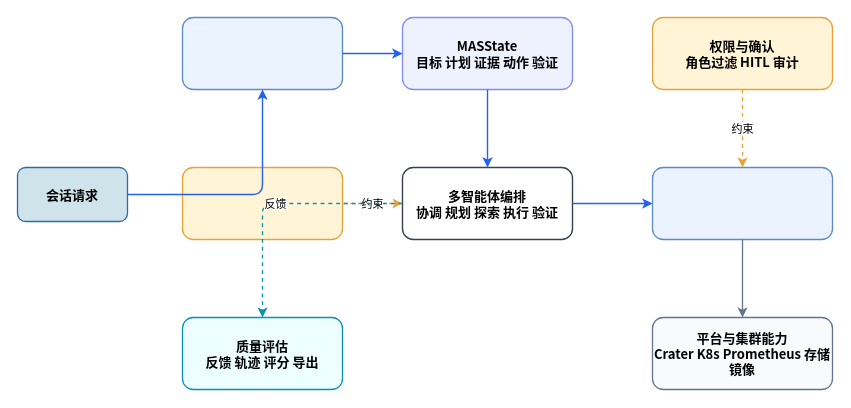
This 851x408 diagram has some shape labels left out. The shapes that lost their labels are listed below. From the top down, each one's box as (x1, y1, x2, y2) in pixels, then its label:
(181, 16, 343, 90): 上下文组织 身份 页面 历史 恢复
(181, 166, 343, 240): 运行时约束 轮次 超时 回退 确认暂停
(651, 166, 833, 240): 工具执行体系 后端代理 本地适配 快照执行
